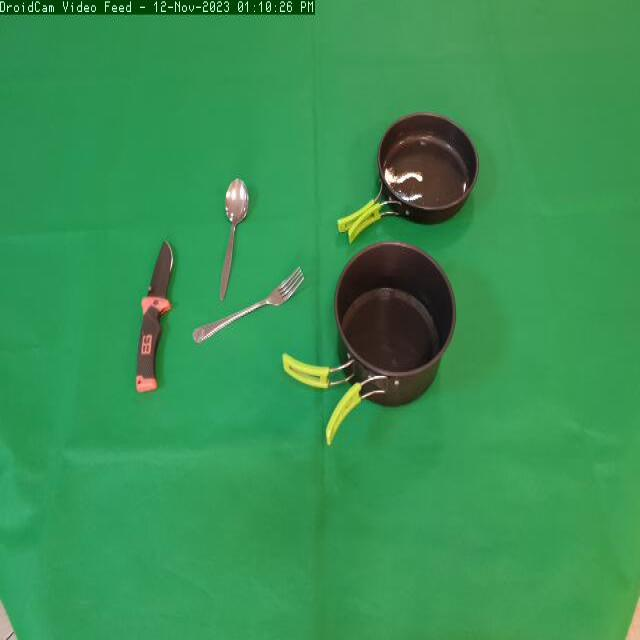fork: (193, 263, 307, 347)
knife: (125, 232, 185, 404)
pan: (338, 107, 484, 246)
pot: (282, 235, 464, 453)
spoon: (208, 171, 257, 304)
